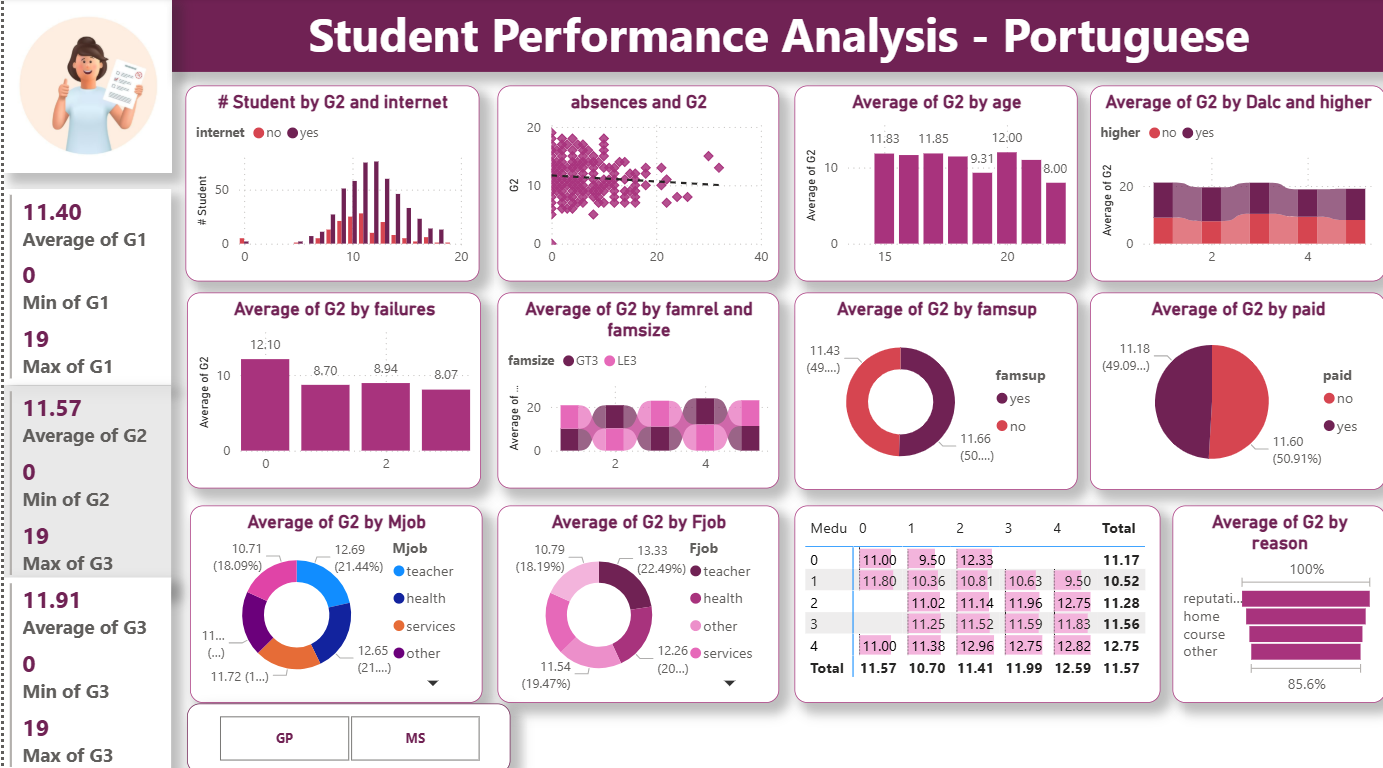

What the dashboard file says about the page in this screenshot:
{"tool":"powerbi","page":{"name":"Grade 2 Dashboard","canvas":[1280,720],"ordinal":1},"visuals":[{"type":"textbox","box":[155.4,0,1123.7,69.6],"z":0},{"type":"image","box":[0,0,155.4,163.5],"z":1000},{"type":"multiRowCard","fields":{"Values":["Avg(student por.G1)","Min(student por.G1)","Max(student por.G1)1"]},"box":[0,177.6,155,181.4],"z":2000},{"type":"multiRowCard","fields":{"Values":["Avg(student por.G2)","Min(student por.G2)","Max(student por.G3)"]},"box":[0,359.1,155,190.9],"z":3000},{"type":"multiRowCard","fields":{"Values":["Avg(student por.G3)","Min(student por.G3)","Max(student por.G3)"]},"box":[0,536.7,155,183.3],"z":4000},{"type":"clusteredColumnChart","fields":{"Y":["student por.# Student"],"Series":["student por.internet"],"Category":["student por.G2"]},"box":[168.4,82.6,272,181.4],"z":5000},{"type":"scatterChart","fields":{"X":["student por.absences"],"Y":["student por.G2"]},"box":[456.6,82.6,260.7,181.4],"z":6000},{"type":"clusteredColumnChart","fields":{"Category":["student por.age"],"Y":["Avg(student por.G2)"]},"box":[731.9,82.6,262.3,181.4],"z":7000},{"type":"ribbonChart","fields":{"Category":["student por.Dalc"],"Series":["student por.higher"],"Y":["Avg(student por.G2)"]},"box":[1005.5,82.6,273.6,181.4],"z":8000},{"type":"clusteredColumnChart","fields":{"Category":["student por.failures"],"Y":["Avg(student por.G2)"]},"box":[170,273.6,272,181.4],"z":9000},{"type":"ribbonChart","fields":{"Category":["student por.famrel"],"Series":["student por.famsize"],"Y":["Avg(student por.G2)"]},"box":[456.6,273.6,260.7,181.4],"z":10000},{"type":"donutChart","fields":{"Category":["student por.famsup"],"Y":["Avg(student por.G2)"]},"box":[731.9,273.6,262.3,183],"z":11000},{"type":"pieChart","fields":{"Category":["student por.paid"],"Y":["Avg(student por.G2)"]},"box":[1005.5,273.6,273.6,183],"z":12000},{"type":"donutChart","fields":{"Category":["student por.Mjob"],"Y":["Avg(student por.G2)"]},"box":[171.6,471.2,270.4,183],"z":13000},{"type":"donutChart","fields":{"Category":["student por.Fjob"],"Y":["Avg(student por.G2)"]},"box":[456.6,471.2,260.7,183],"z":14000},{"type":"pivotTable","fields":{"Rows":["student por.Medu"],"Columns":["student por.Fedu"],"Values":["Avg(student por.G2)"]},"box":[731.9,471.2,338.4,183],"z":15000},{"type":"funnel","fields":{"Category":["student por.reason"],"Y":["Avg(student por.G2)"]},"box":[1081.6,471.2,197.5,183],"z":16000},{"type":"slicer","fields":{"Values":["student por.school"]},"box":[170,654.2,299.6,64.8],"z":17000}]}

Visuals, with their boxes in screenshot pixels (x1, y1, x2, y2), scaled from the page's 1280x720 canvas onto the 1383x768 screenshot:
textbox: 168,0,1382,74
image: 0,0,168,174
multiRowCard - Avg(student por.G1) x Min(student por.G1): 0,189,167,383
multiRowCard - Avg(student por.G2) x Min(student por.G2): 0,383,167,587
multiRowCard - Avg(student por.G3) x Min(student por.G3): 0,572,167,767
clusteredColumnChart - student por.# Student x student por.internet: 182,88,476,282
scatterChart - student por.absences x student por.G2: 493,88,775,282
clusteredColumnChart - student por.age x Avg(student por.G2): 791,88,1074,282
ribbonChart - student por.Dalc x student por.higher: 1086,88,1382,282
clusteredColumnChart - student por.failures x Avg(student por.G2): 184,292,478,485
ribbonChart - student por.famrel x student por.famsize: 493,292,775,485
donutChart - student por.famsup x Avg(student por.G2): 791,292,1074,487
pieChart - student por.paid x Avg(student por.G2): 1086,292,1382,487
donutChart - student por.Mjob x Avg(student por.G2): 185,503,478,698
donutChart - student por.Fjob x Avg(student por.G2): 493,503,775,698
pivotTable - student por.Medu x student por.Fedu: 791,503,1156,698
funnel - student por.reason x Avg(student por.G2): 1169,503,1382,698
slicer - student por.school: 184,698,507,767
